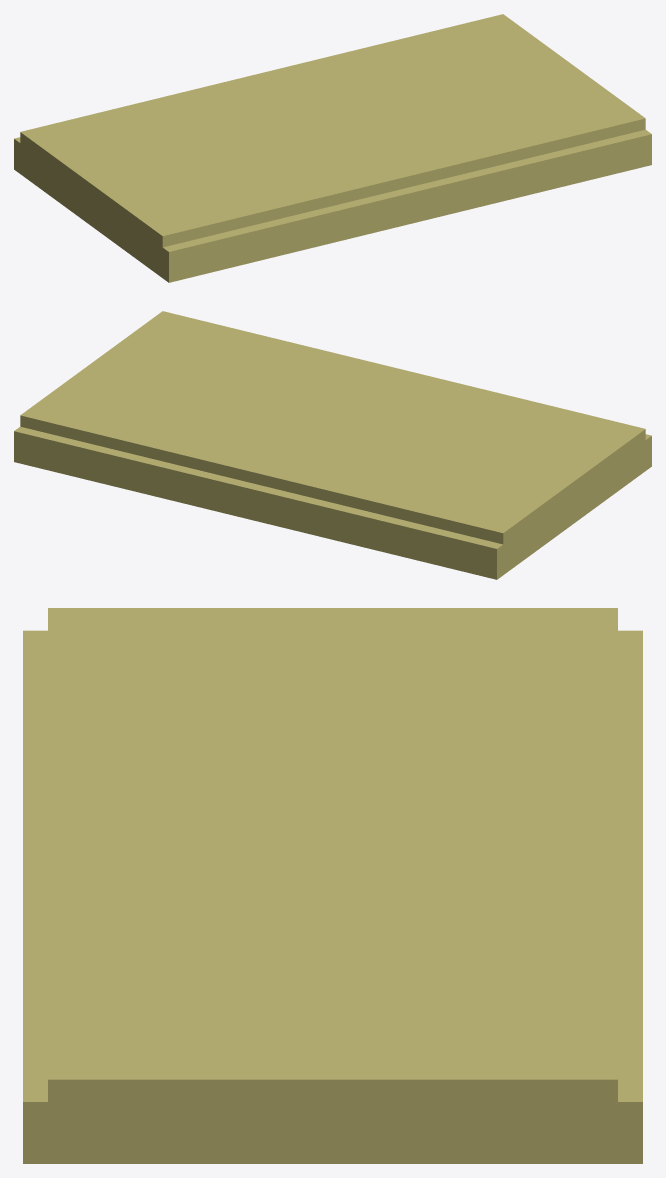
The model's file is cable_ramp_5ch.glb.
3 views of the same model, one above another, from view 1: azimuth 30°, elevation 25°; view 2: azimuth 150°, elevation 25°; view 3: azimuth 270°, elevation 25° (orthographic). The views are drawn at different scales.
Visible parts, largest first — view 1: cable_ramp_5ch; view 2: cable_ramp_5ch; view 3: cable_ramp_5ch.
Part boxes in pixels (left/top/right/bottom): cable_ramp_5ch: left=14, top=14, right=651, bottom=282; cable_ramp_5ch: left=14, top=311, right=651, bottom=579; cable_ramp_5ch: left=23, top=608, right=642, bottom=1163.
Size of what is drawn, in the model's own units: 0.9 by 0.075 by 0.5.
